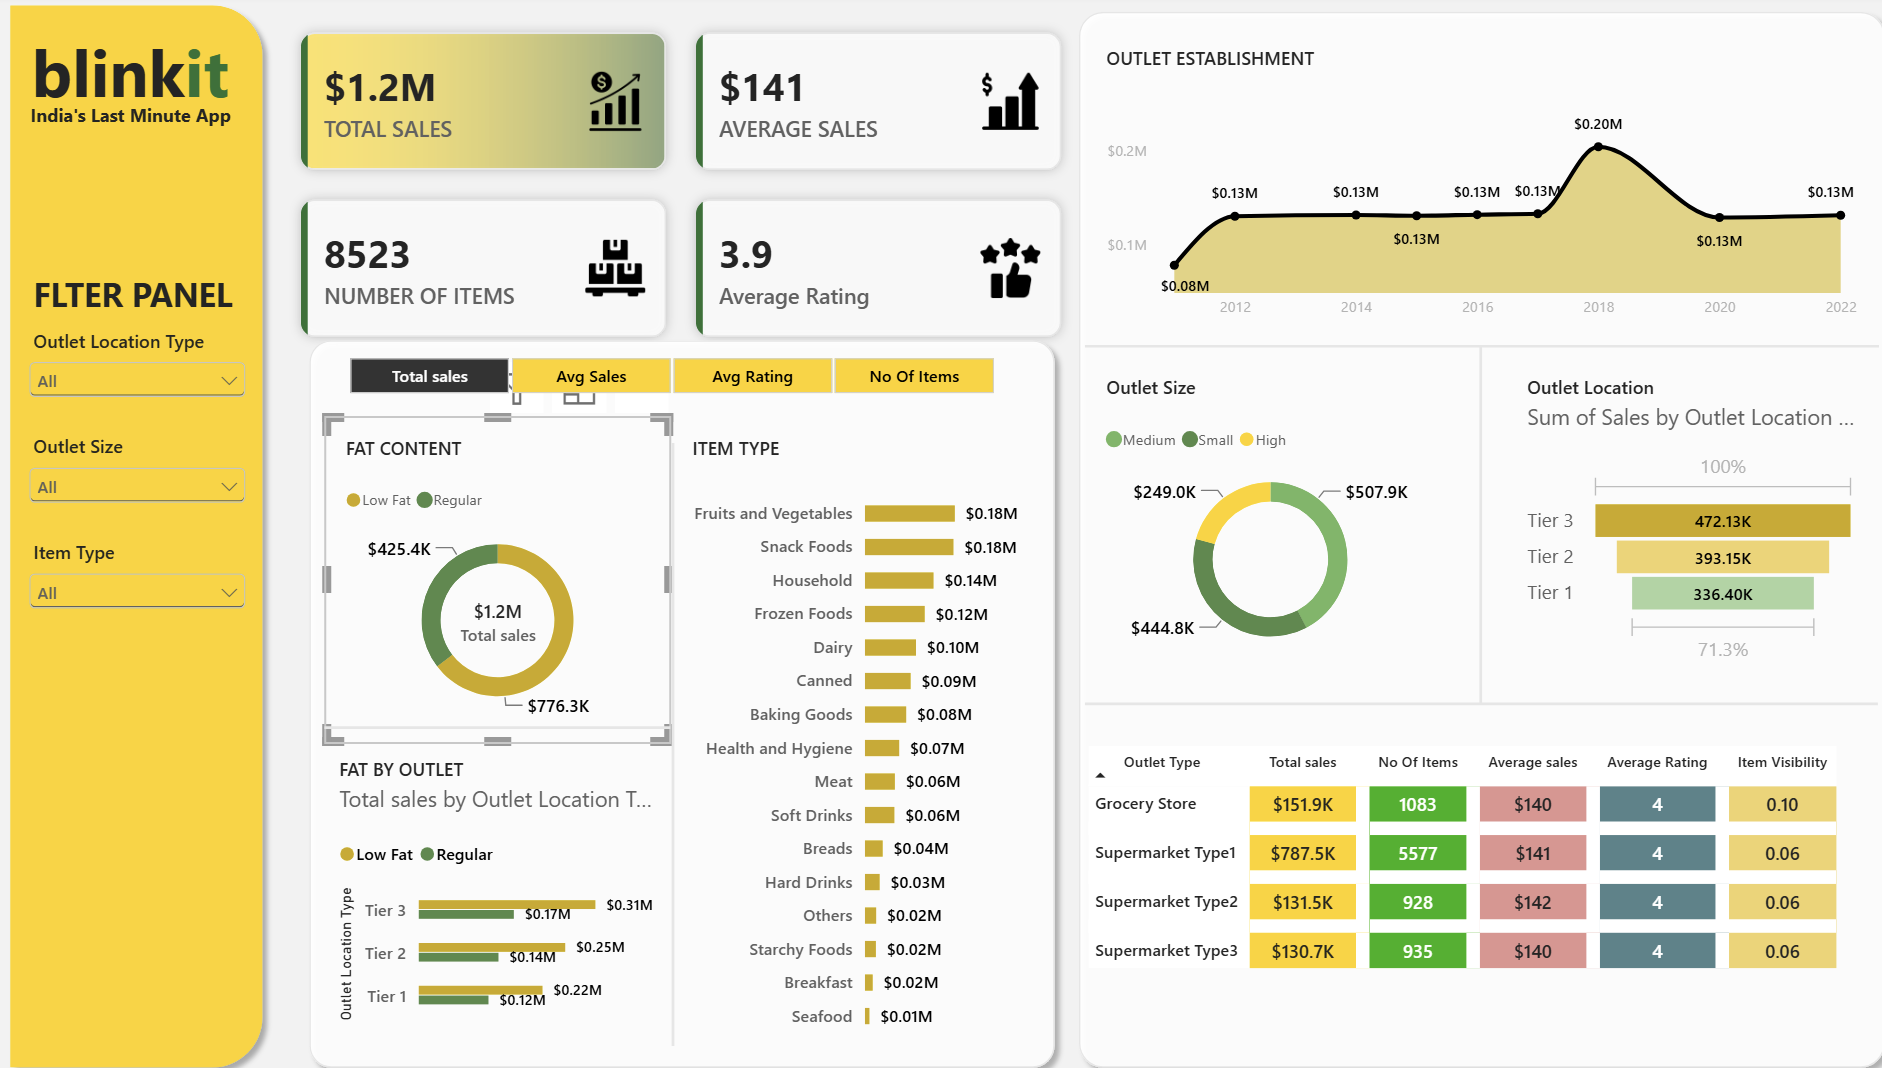

The page's visual inventory and layout, read from the dashboard file:
{"tool":"powerbi","page":{"name":"Page 1","canvas":[1400,800],"ordinal":0},"visuals":[{"type":"shape","box":[0,0,203.9,800.8],"z":0},{"type":"textbox","box":[12.4,24.8,171.8,76.6],"z":1000},{"type":"textbox","box":[11.6,79.6,172.4,21.6],"z":2000},{"type":"cardVisual","fields":{"Data":["measure.Total sales","measure.Average Sales","measure.No Of Items","measure.Average Rating"]},"box":[212.2,18.2,583.6,247],"z":3000},{"type":"shape","box":[220.5,247,567,553.7],"z":4000},{"type":"donutChart","title":"FAT  CONTENT","fields":{"Category":["BlinkIT Grocery Data.Item Fat Content"],"Y":["measure.Total sales"]},"box":[240.4,311.7,255.3,242.1],"z":5000},{"type":"slicer","fields":{"Values":["metrics.metrics"]},"box":[238.7,266.9,514,28.2],"z":6000},{"type":"cardVisual","fields":{"Data":["measure.Total sales"]},"box":[315,432.7,107.8,63],"z":7000},{"type":"clusteredBarChart","title":"FAT BY OUTLET","fields":{"Category":["BlinkIT Grocery Data.Outlet Location Type"],"Series":["BlinkIT Grocery Data.Item Fat Content"],"Y":["measure.Total sales"]},"box":[235.4,548.8,263.6,227.1],"z":8000},{"type":"shape","box":[240.4,509,255.3,64.7],"z":9000},{"type":"shape","box":[469.2,331.6,56.4,444.3],"z":10000},{"type":"barChart","title":"ITEM TYPE","fields":{"Category":["BlinkIT Grocery Data.Item Type"],"Y":["measure.Total sales"]},"box":[495.7,311.7,271.9,474.2],"z":11000},{"type":"shape","box":[787.5,5,611.8,795.8],"z":12000},{"type":"lineChart","title":"OUTLET ESTABLISHMENT","fields":{"Category":["BlinkIT Grocery Data.Outlet Establishment Year"],"Y":["measure.Total sales"]},"box":[800.8,24.9,585,235],"z":13000},{"type":"shape","box":[800.8,192.3,585.2,135.9],"z":14000},{"type":"donutChart","title":"Outlet Size","fields":{"Category":["BlinkIT Grocery Data.Outlet Size"],"Y":["measure.Total sales"]},"box":[800.8,266.9,273.6,242.1],"z":15000},{"type":"shape","box":[964.9,260.3,255.3,263.6],"z":16000},{"type":"funnel","title":"Outlet Location","fields":{"Category":["BlinkIT Grocery Data.Outlet Location Type"],"Y":["Sum(BlinkIT Grocery Data.Sales)"]},"box":[1110.8,266.9,275.2,242.1],"z":17000},{"type":"shape","box":[800.8,455.9,584.5,135.8],"z":18000},{"type":"pivotTable","fields":{"Rows":["BlinkIT Grocery Data.Outlet Type"],"Values":["measure.Total sales","measure.No Of Items","measure.Average sales","measure.Average Rating","Avg(BlinkIT Grocery Data.Item Visibility)"]},"box":[787.5,540.5,585.2,245.4],"z":19000},{"type":"slicer","fields":{"Values":["BlinkIT Grocery Data.Outlet Location Type"]},"box":[18.2,247,169.1,74.6],"z":20000},{"type":"slicer","fields":{"Values":["BlinkIT Grocery Data.Outlet Size"]},"box":[18.2,325,169.1,74.6],"z":21000},{"type":"slicer","fields":{"Values":["BlinkIT Grocery Data.Item Type"]},"box":[18.2,402.9,169.1,74.6],"z":22000},{"type":"textbox","box":[11.6,205.6,175.7,41.4],"z":23000}]}

Visuals, with their boxes in screenshot pixels (x1, y1, x2, y2), scaled from the page's 1400x800 canvas onto the 1882x1068 screenshot:
shape: 0/0/274/1067
textbox: 17/33/248/135
textbox: 16/106/247/135
cardVisual - measure.Total sales x measure.Average Sales: 285/24/1070/354
shape: 296/330/1059/1067
"FAT  CONTENT" donutChart: 323/416/666/739
slicer - metrics.metrics: 321/356/1012/394
cardVisual - measure.Total sales: 423/578/568/662
"FAT BY OUTLET" clusteredBarChart: 316/733/671/1036
shape: 323/680/666/766
shape: 631/443/707/1036
"ITEM TYPE" barChart: 666/416/1032/1049
shape: 1059/7/1881/1067
"OUTLET ESTABLISHMENT" lineChart: 1077/33/1863/347
shape: 1077/257/1863/438
"Outlet Size" donutChart: 1077/356/1444/680
shape: 1297/348/1640/699
"Outlet Location" funnel: 1493/356/1863/680
shape: 1077/609/1862/790
pivotTable - BlinkIT Grocery Data.Outlet Type x measure.Total sales: 1059/722/1845/1049
slicer - BlinkIT Grocery Data.Outlet Location Type: 24/330/252/429
slicer - BlinkIT Grocery Data.Outlet Size: 24/434/252/533
slicer - BlinkIT Grocery Data.Item Type: 24/538/252/637
textbox: 16/274/252/330
